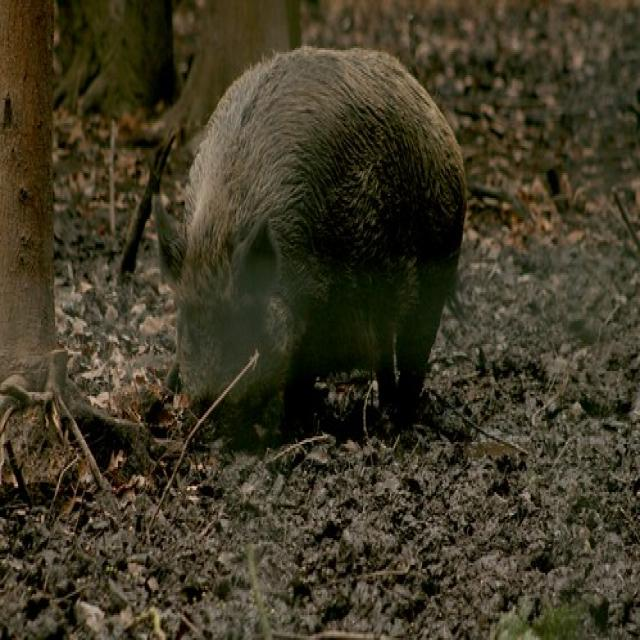boar: (142, 0, 492, 475)
